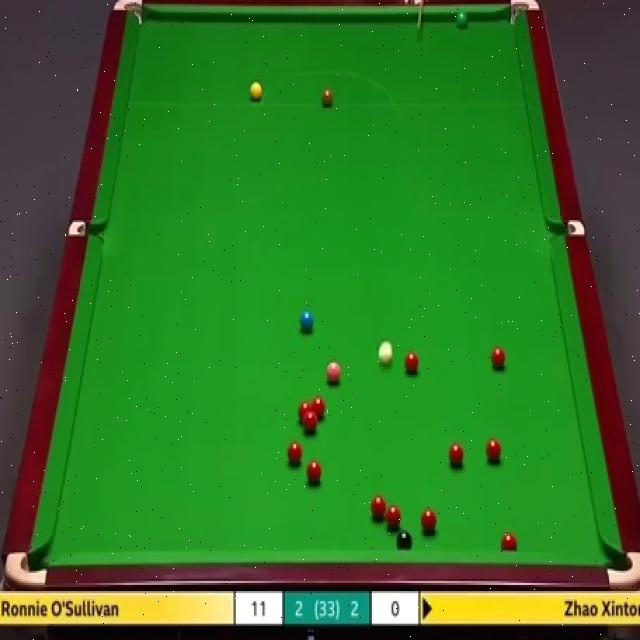black-ball: (397, 529, 412, 551)
blue-ball: (298, 309, 316, 332)
brown-ball: (321, 85, 333, 106)
green-ball: (455, 10, 469, 29)
pink-ball: (326, 362, 342, 387)
red-ball: (420, 509, 438, 537), (448, 443, 467, 469), (386, 502, 402, 532), (284, 443, 304, 466), (404, 349, 421, 376), (486, 438, 504, 463), (370, 496, 387, 521), (301, 467, 320, 488), (490, 346, 505, 372), (298, 401, 312, 427), (312, 397, 326, 421), (500, 532, 518, 550), (304, 414, 318, 434)
white-ball: (378, 339, 394, 366)
yellow-ball: (249, 84, 262, 100)
